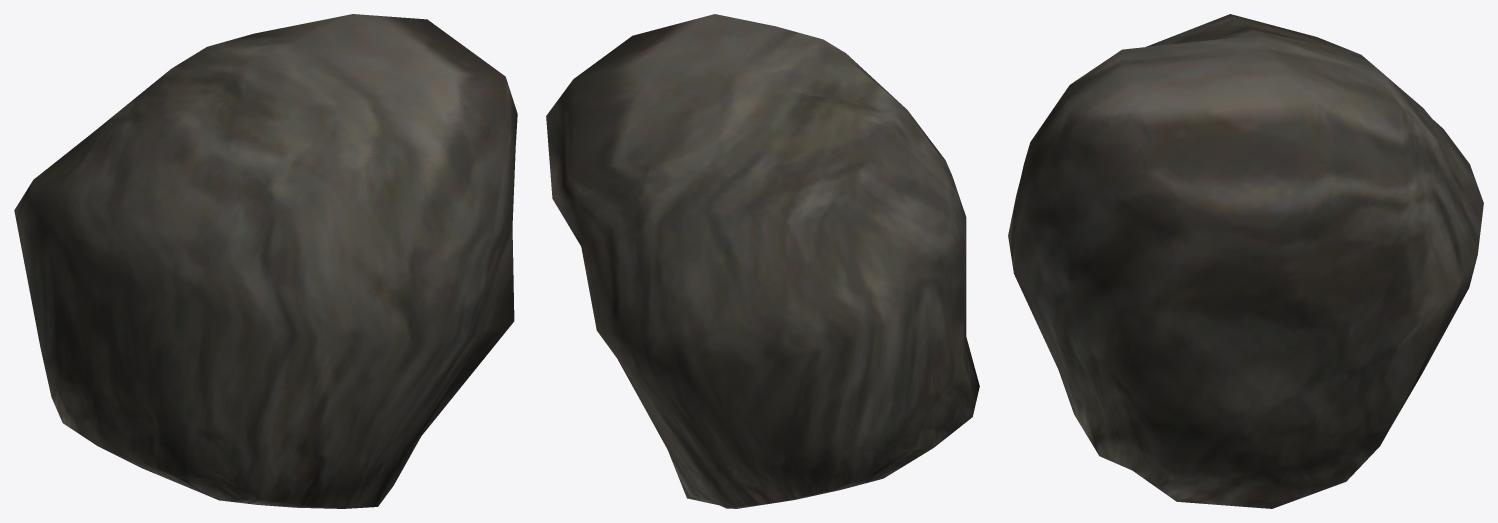
File: Stone45Shape.dae
3 views of the same model, side by side, from view 1: azimuth 30°, elevation 25°; view 2: azimuth 150°, elevation 25°; view 3: azimuth 270°, elevation 25° (orthographic). The views are drawn at different scales.
Visible parts, largest first — view 1: Stone45; view 2: Stone45; view 3: Stone45.
Part boxes in pixels (box(x1,y1,x2,y2)): Stone45: box(14, 14, 517, 508); Stone45: box(546, 14, 979, 508); Stone45: box(1008, 14, 1483, 508).
Bounding box in the file's own units: 6.6 × 6.57 × 6.43.
